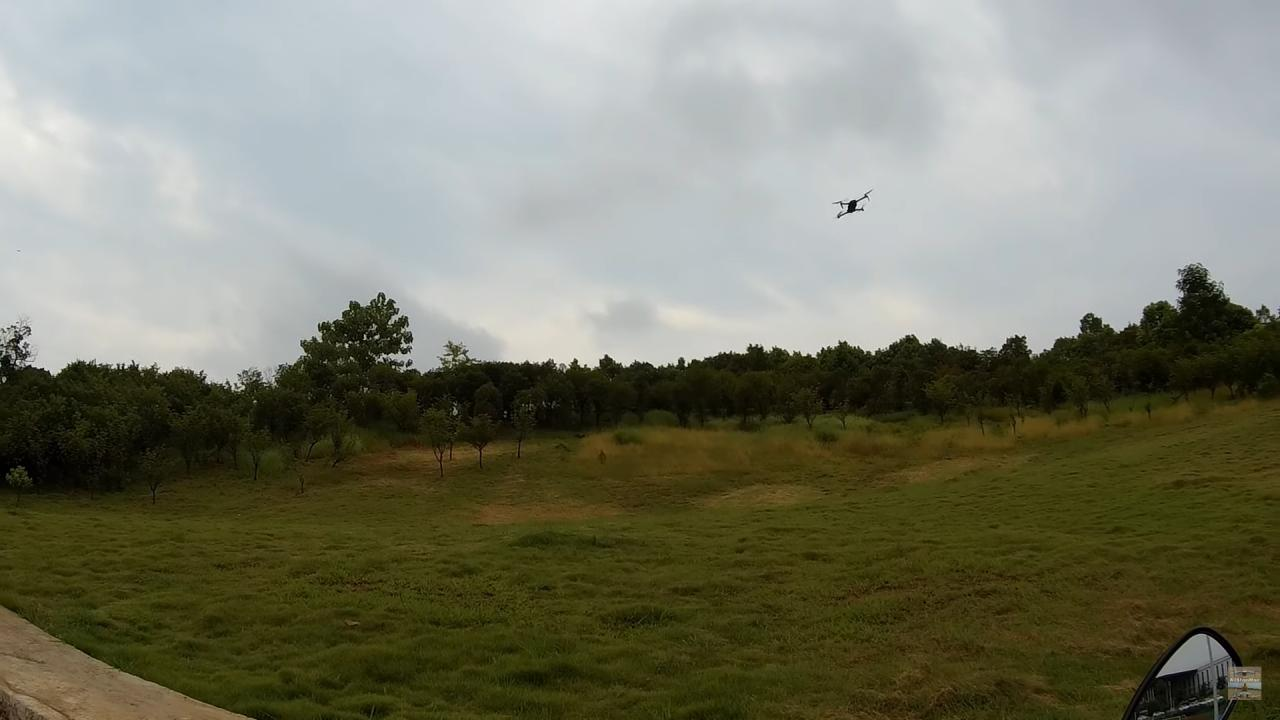Drone: (821, 182, 877, 229)
